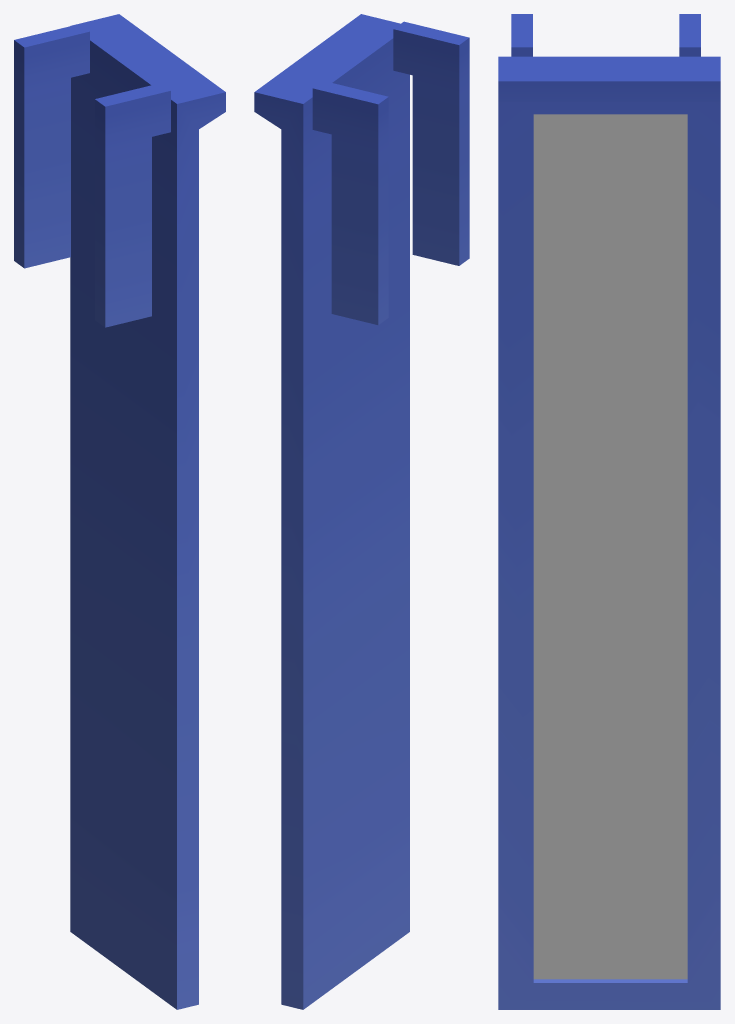
File: SignProp_2_B_6.fbx
3 views of the same model, side by side, from view 1: azimuth 30°, elevation 25°; view 2: azimuth 150°, elevation 25°; view 3: azimuth 270°, elevation 25° (orthographic). The views are drawn at different scales.
Parts seen in each view (by area): view 1: SignProp_2_B_6; view 2: SignProp_2_B_6; view 3: SignProp_2_B_6.
Part boxes in pixels (x1,y1,x2,y2): SignProp_2_B_6: [14, 14, 225, 1009]; SignProp_2_B_6: [254, 14, 469, 1009]; SignProp_2_B_6: [498, 14, 720, 1009].
Size of the model in its own units: 20.96 by 160 by 33.84.
